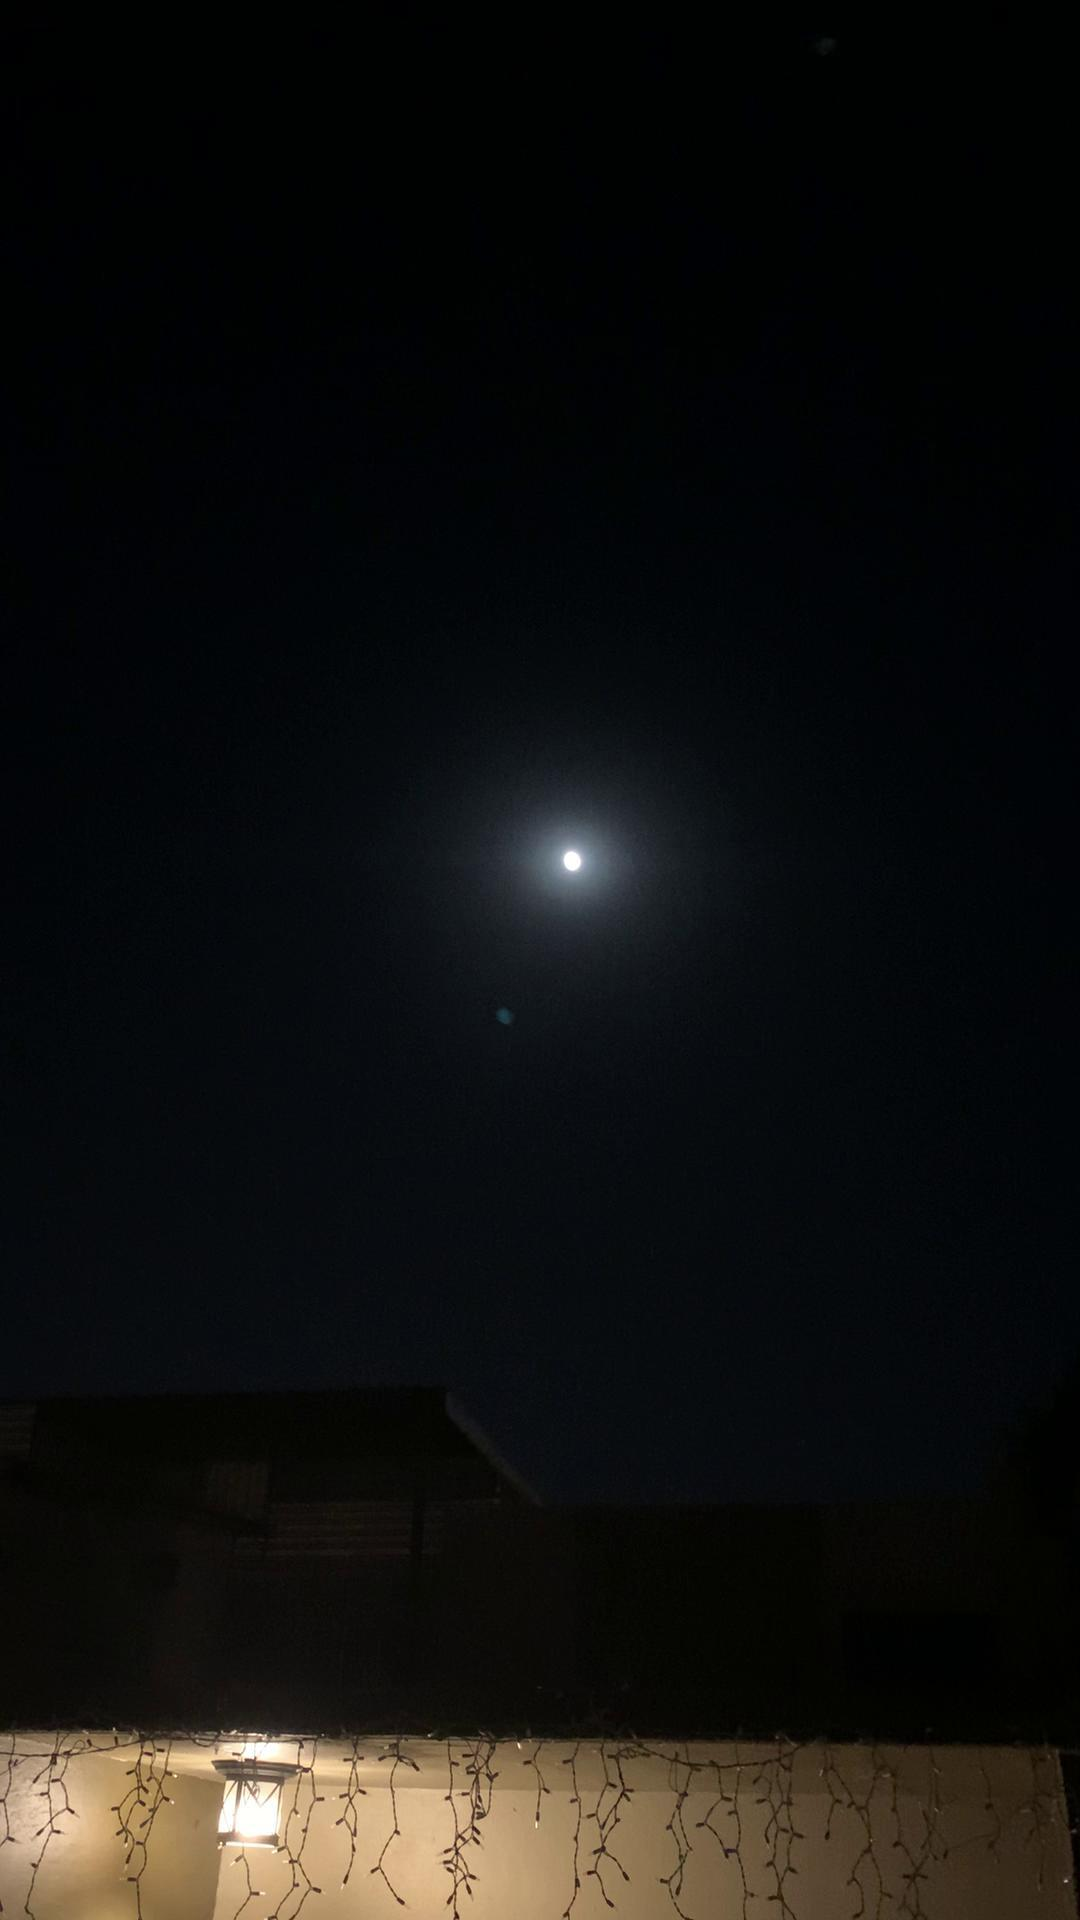moon: (531, 815, 618, 911)
